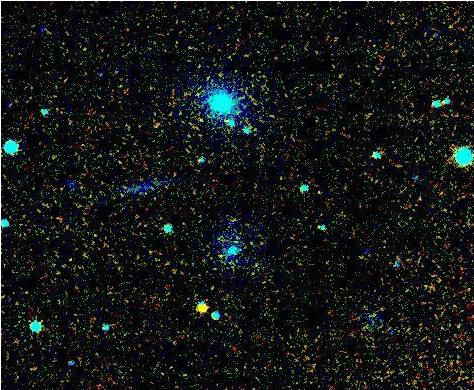star: (188, 292, 218, 322)
